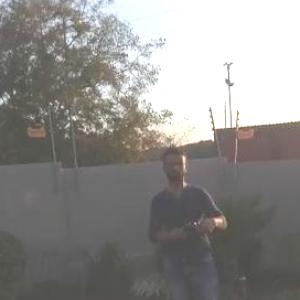follow: (141, 137, 233, 299)
